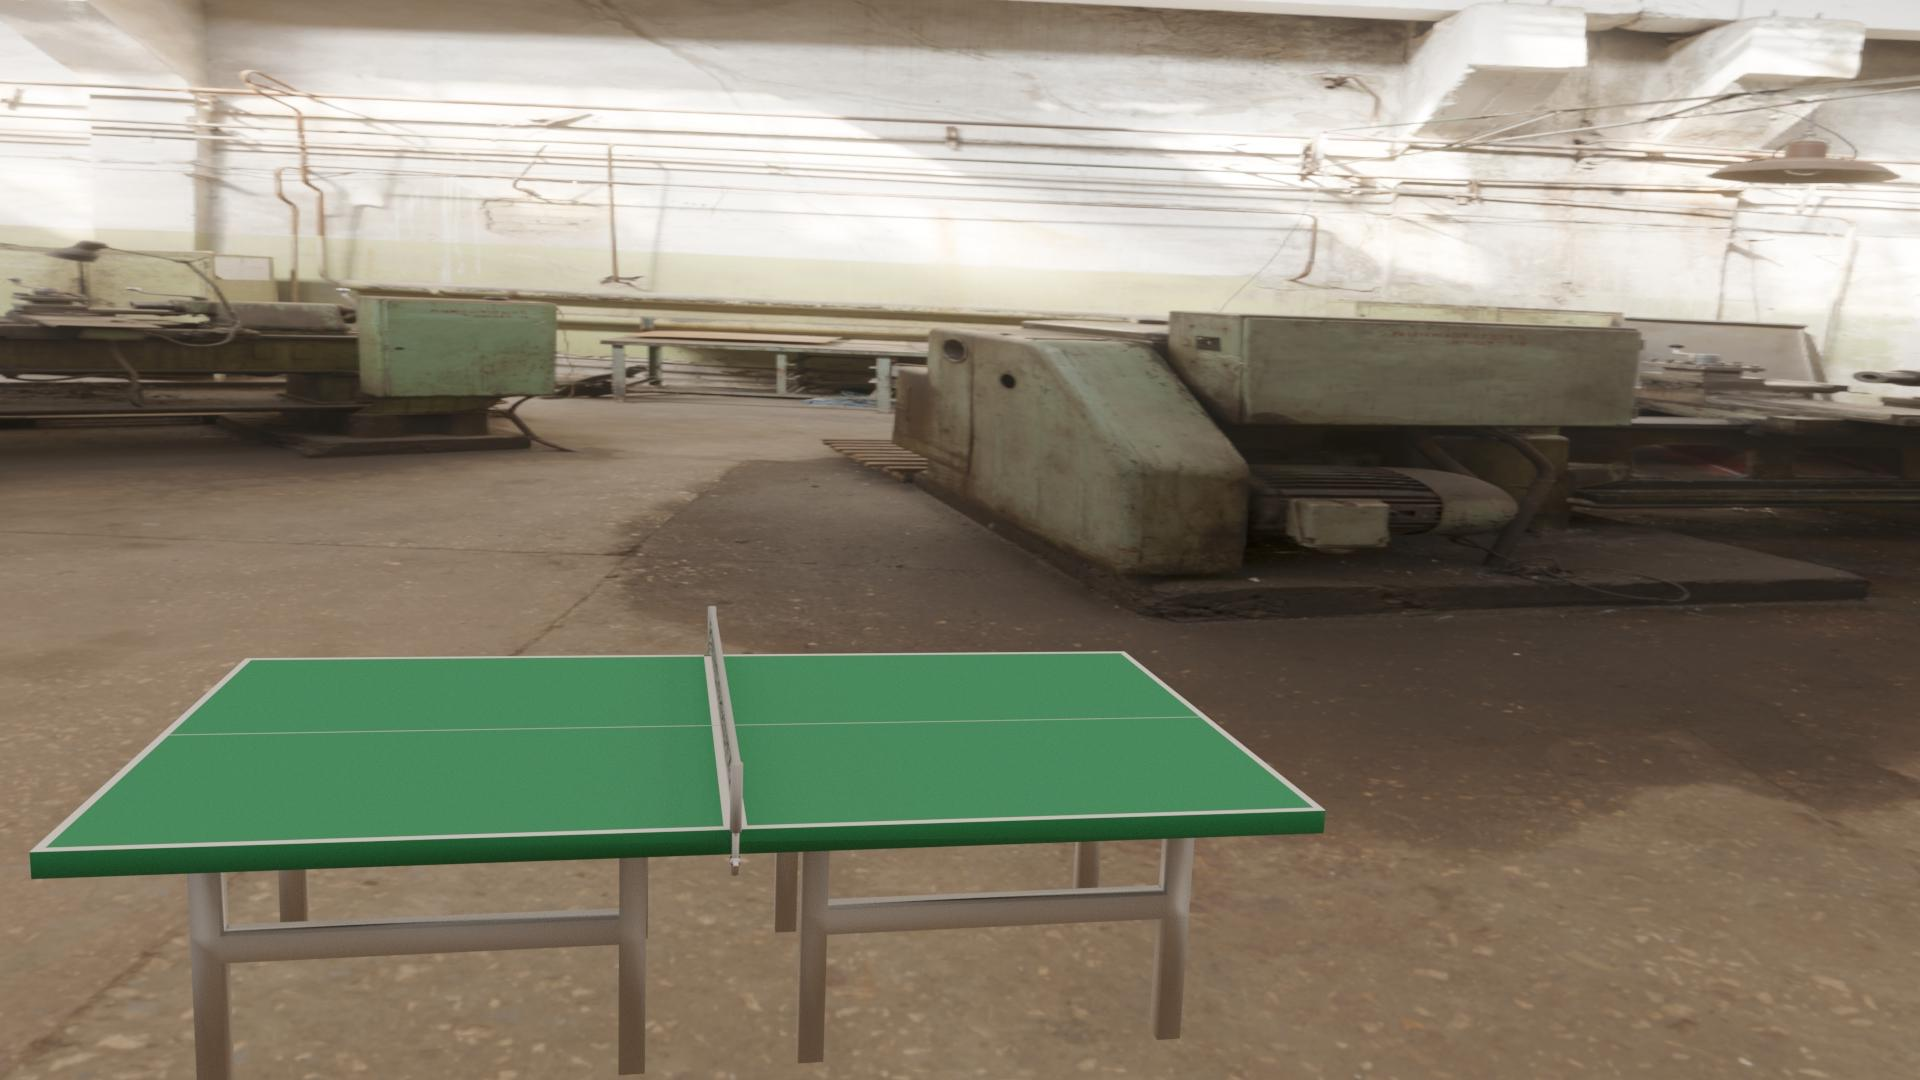table: (45, 653, 1313, 848)
